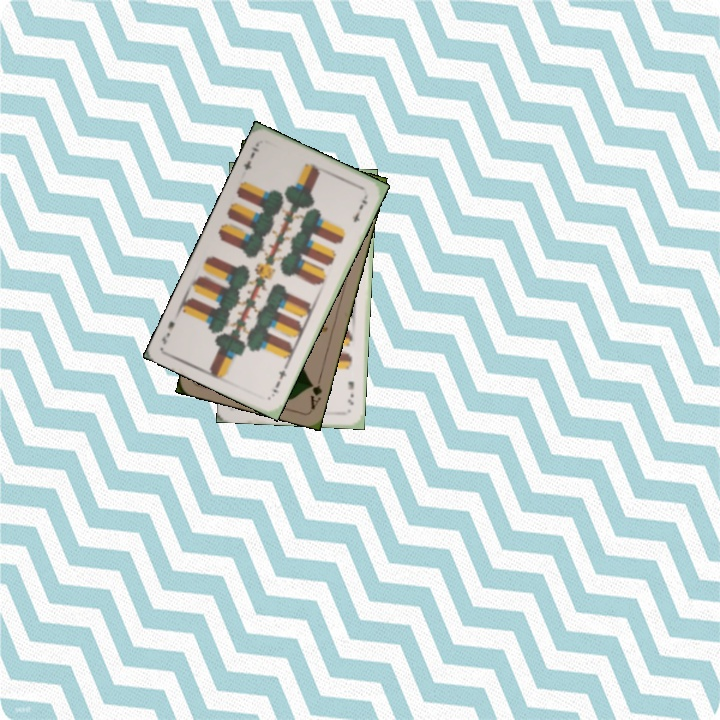E7: (268, 361, 290, 396), (239, 143, 262, 173), (343, 377, 357, 407)
GA: (305, 371, 325, 412)
